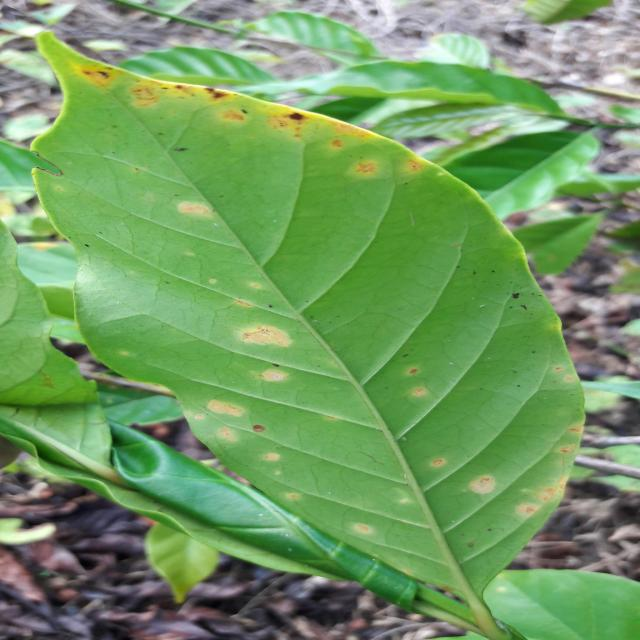Enfermedad-Roya: (27, 32, 585, 640)
